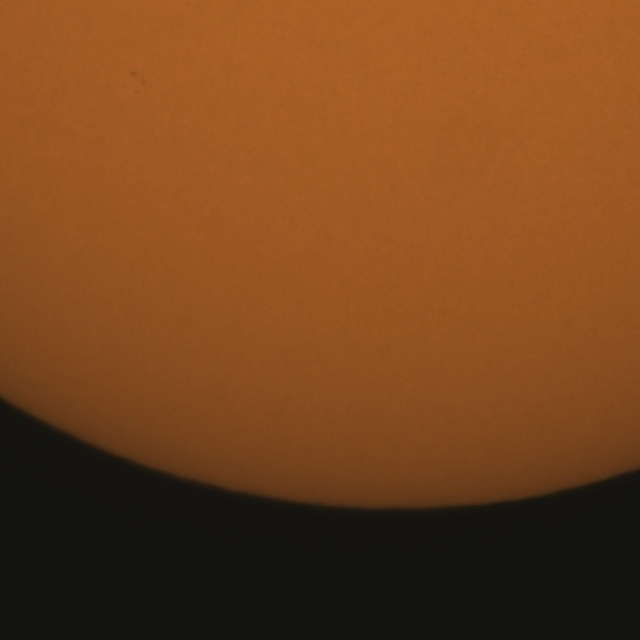sunspot: (128, 70, 147, 96)
